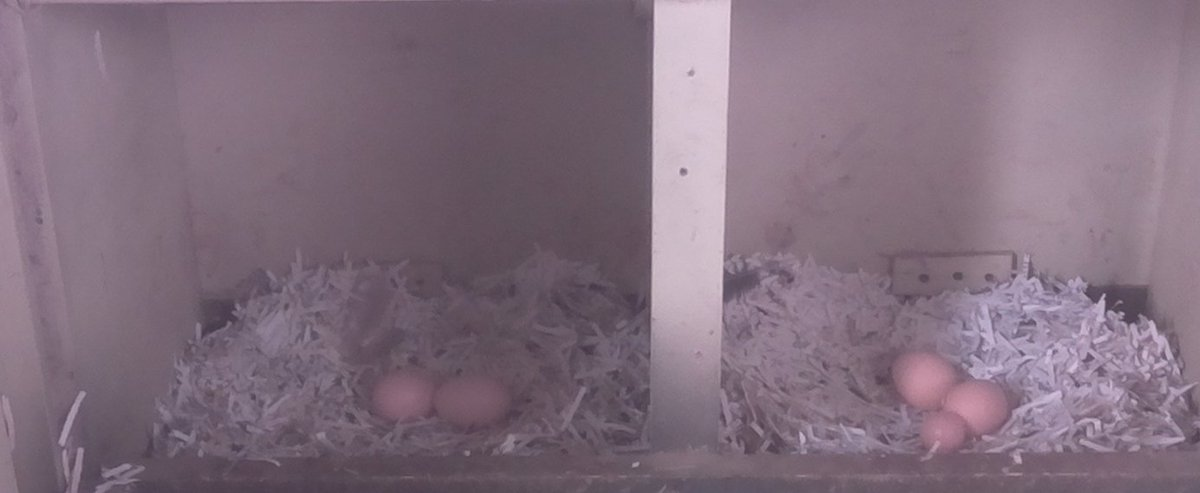egg: (428, 363, 520, 436), (368, 364, 442, 436), (885, 347, 965, 412), (941, 376, 1015, 439), (913, 406, 971, 456)
